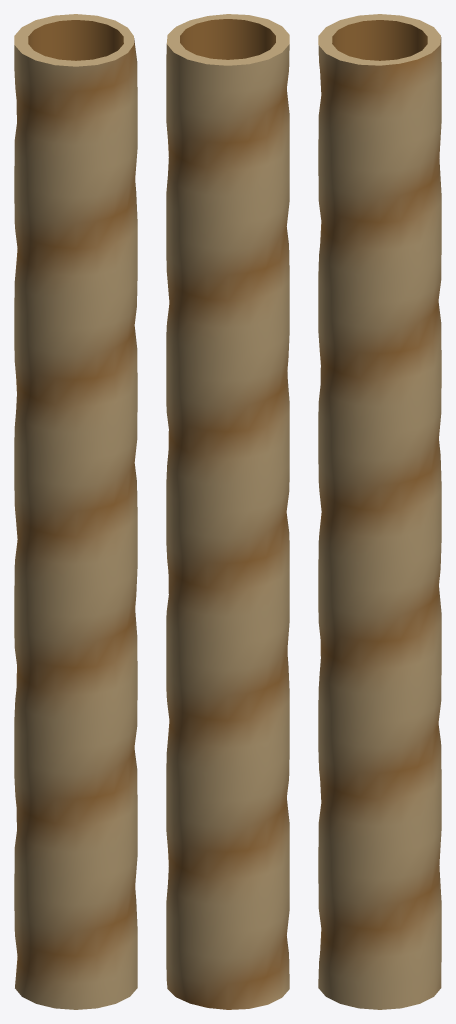
File: topping-canudinho.glb
The picture shows the model from 3 angles, left to right: view 1: azimuth 30°, elevation 25°; view 2: azimuth 150°, elevation 25°; view 3: azimuth 330°, elevation 25°; orthographic projection.
Parts seen in each view (by area): view 1: topping-canudinho; view 2: topping-canudinho; view 3: topping-canudinho.
Boxes of the visible parts, x1=… form: topping-canudinho: x1=14, y1=14, x2=137, y2=1009; topping-canudinho: x1=166, y1=14, x2=289, y2=1009; topping-canudinho: x1=318, y1=14, x2=441, y2=1009.
Size of the model in its own units: 0.0072 by 0.06 by 0.00709.
